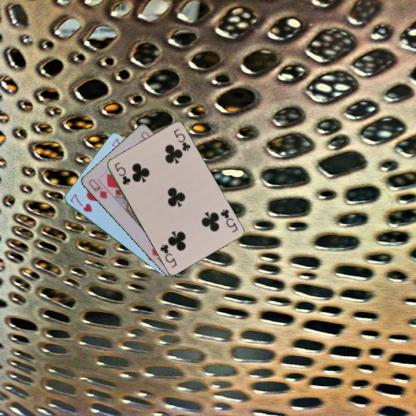5c: (217, 206, 239, 234), (112, 160, 132, 186)
7h: (67, 191, 94, 213)
Qd: (86, 176, 108, 200)
